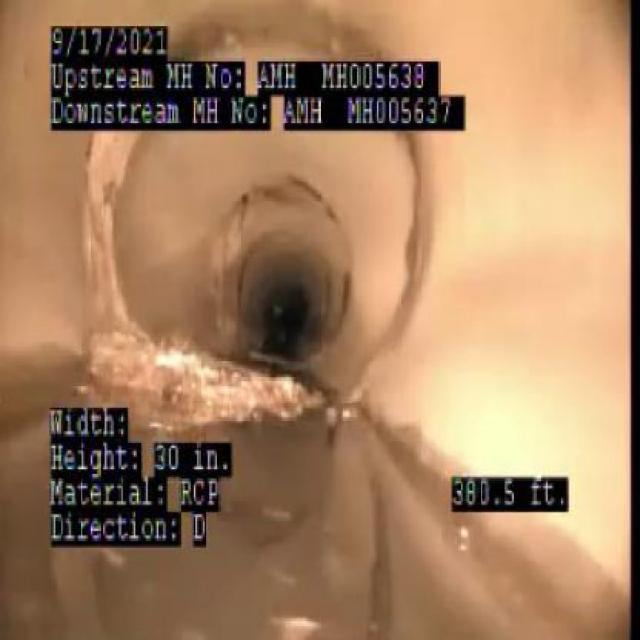Obstacle: (91, 329, 294, 408)
